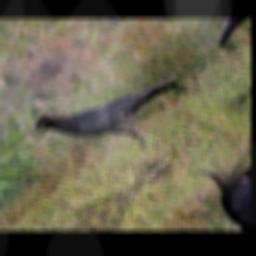Crow: (21, 50, 209, 179)
